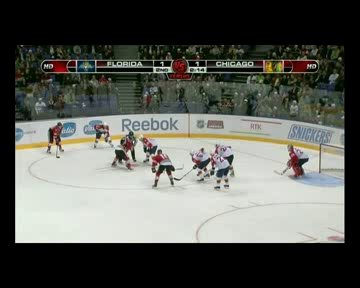normal: (186, 138, 243, 191), (273, 139, 310, 179), (41, 119, 68, 159), (90, 119, 113, 153)
